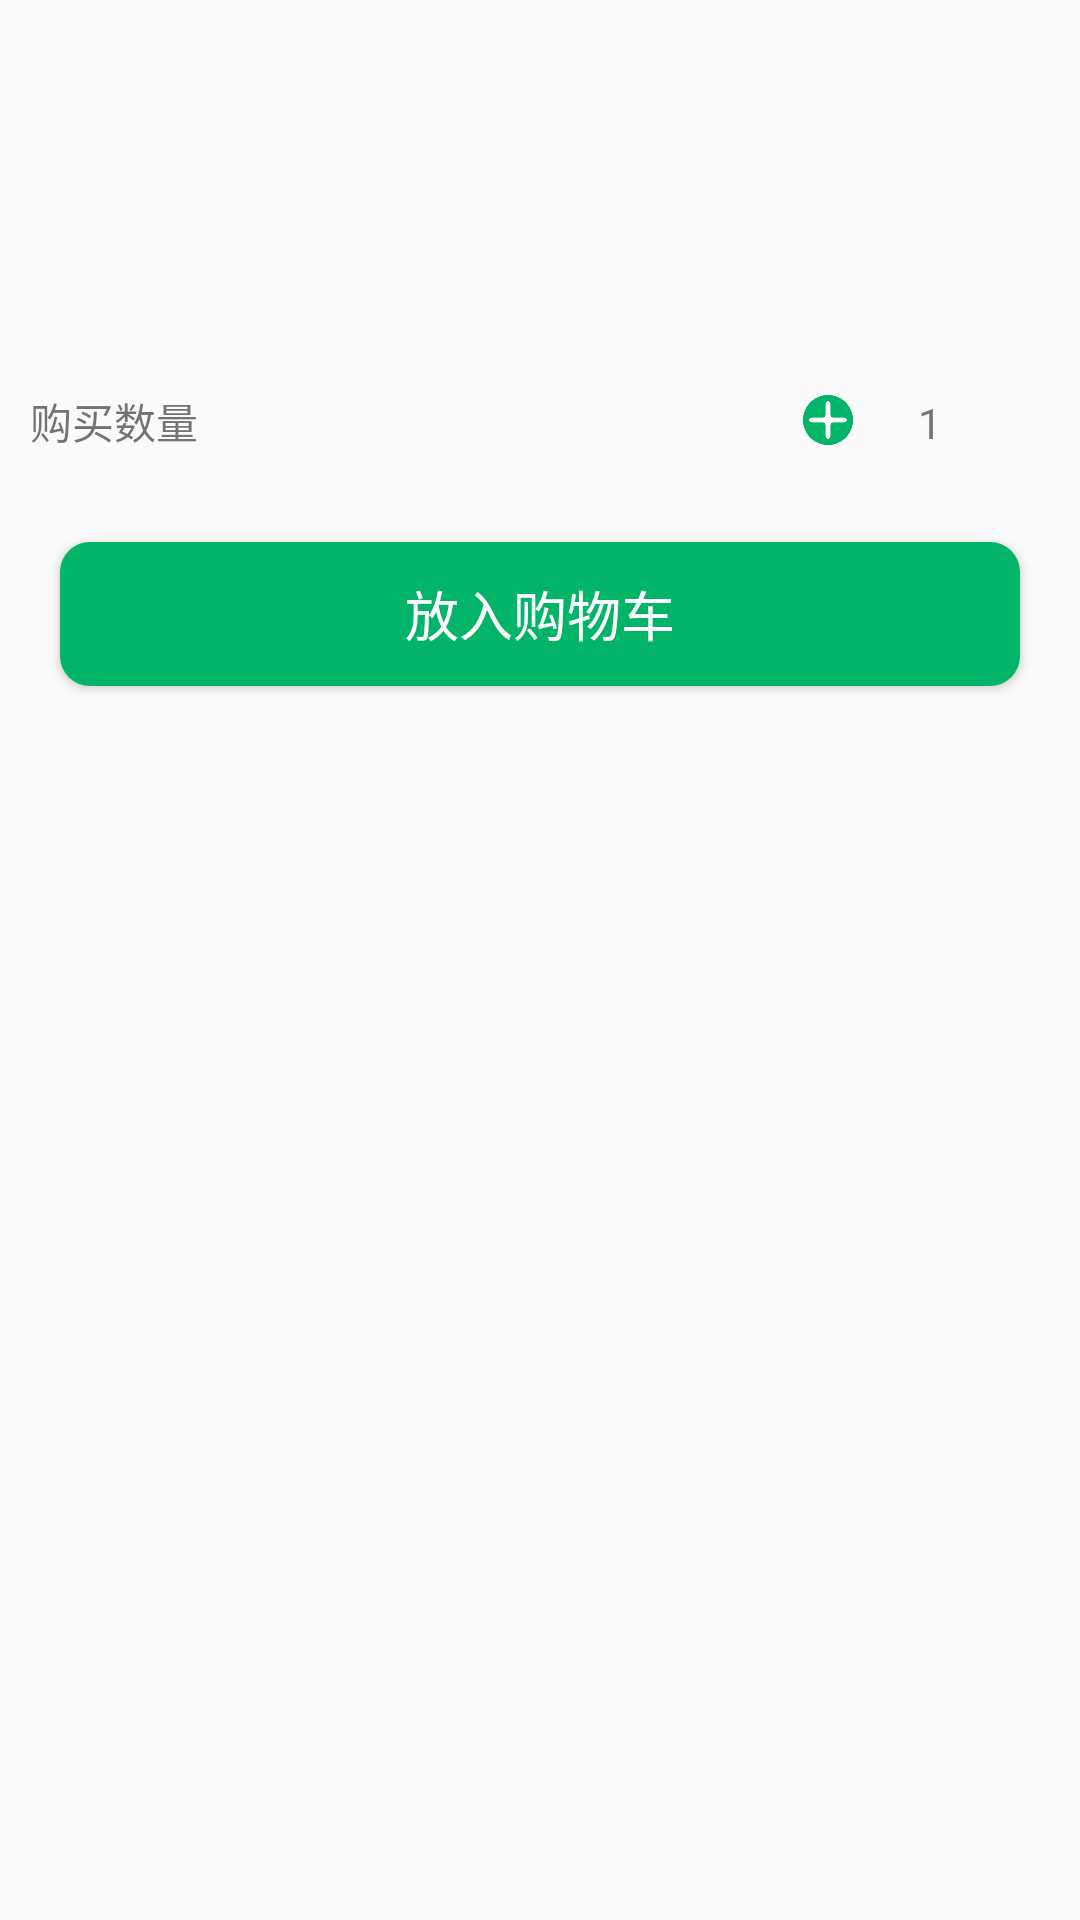

Where icons sit on this 1080px x 1920px app screen, as (x1, y1, x2, y2):
add: (803, 395, 853, 445)
